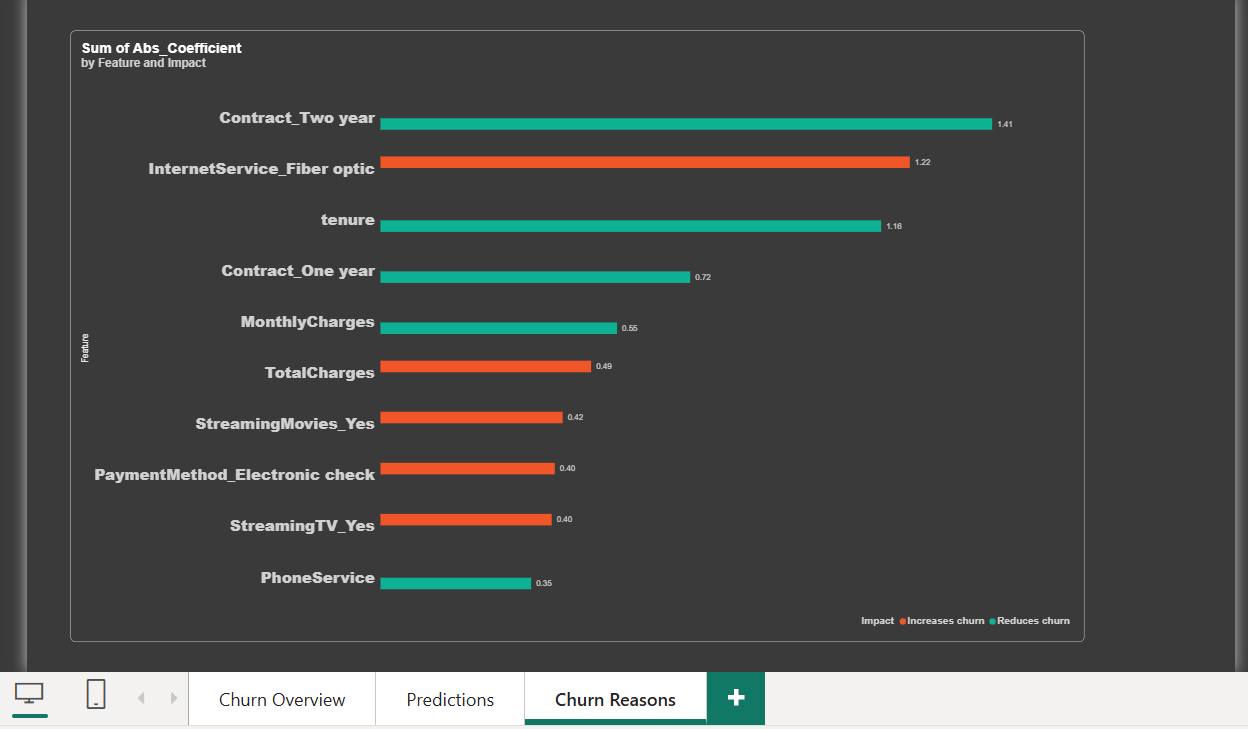

Layout of this report page (visuals, bound fields, positions):
{"tool":"powerbi","page":{"name":"Churn Reasons","canvas":[1920,1080],"ordinal":2},"visuals":[{"type":"clusteredBarChart","fields":{"Category":["reasons.Feature"],"Series":["reasons.Impact"],"Y":["Sum(reasons.Abs_Coefficient)"]},"box":[70,60,1612.5,972.5],"z":0}]}

Visuals, with their boxes on the page's 1920x1080 design canvas (x1, y1, x2, y2). These are canvas units, not pixel positions in the 1248x729 screenshot, which may show the page scaled, cropped or inside an application window:
clusteredBarChart - reasons.Feature x reasons.Impact: 70, 60, 1682, 1032
